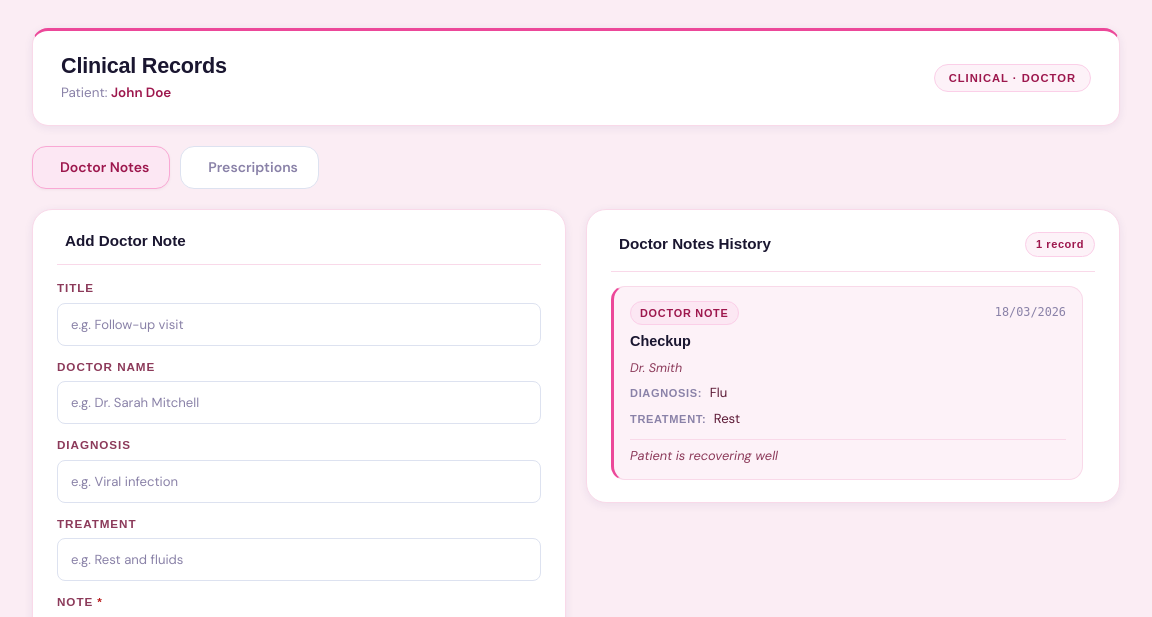
Scenario: renders ClinicalNotes with selected child and toggles modes
Expected: the heading "Clinical Records" is shown, 61,53 -> 227,79
Expected: the text "John Doe" is shown, 111,84 -> 171,101
toggle to prescription tab
Click the button "Prescriptions". click: coordinates (250, 168)
box: 180,146 -> 319,189
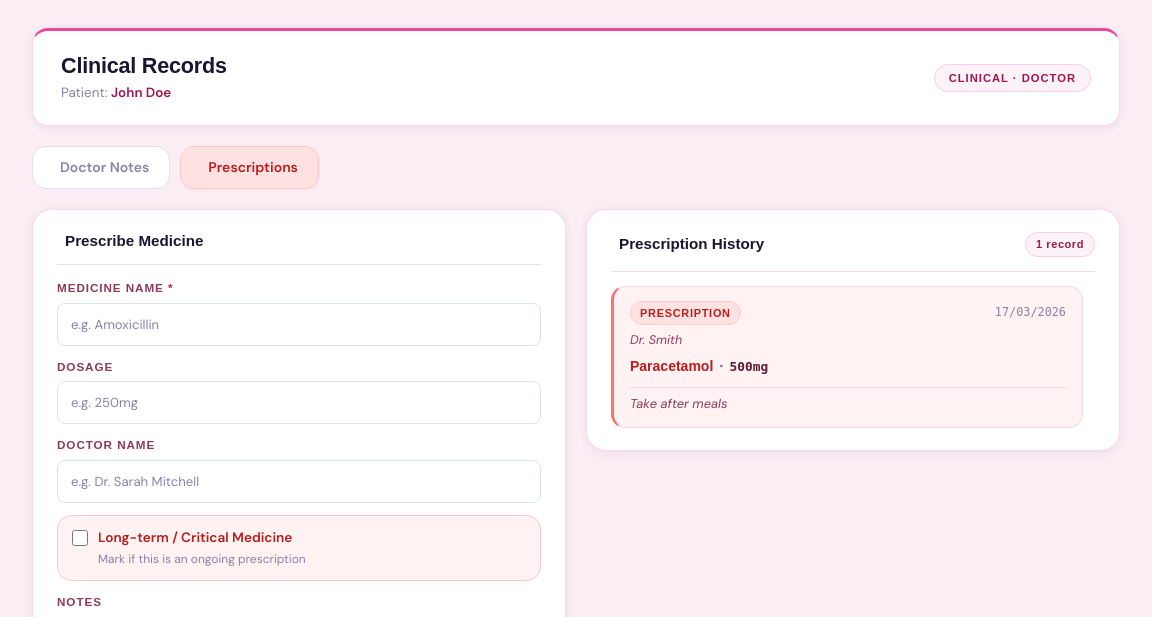
Now the heading "Prescribe Medicine" is shown, box 57,232 -> 541,265
Now the heading "Prescription History" is shown, box 611,235 -> 764,253
Now the text "Paracetamol" is shown, box 630,356 -> 713,377
